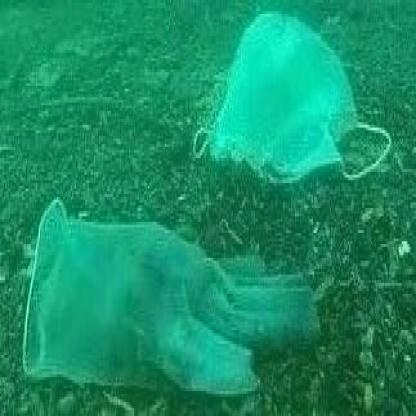Mask: (191, 8, 394, 183)
glove: (19, 192, 322, 414)
